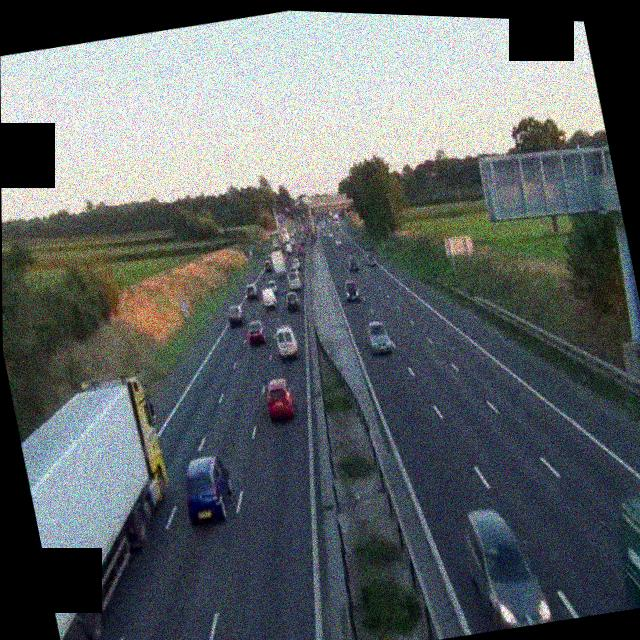car: (459, 500, 552, 635), (178, 453, 238, 525), (263, 377, 298, 423), (366, 318, 394, 356), (273, 326, 299, 361), (245, 318, 267, 346), (261, 284, 280, 311), (226, 303, 246, 327), (343, 279, 362, 303), (283, 289, 301, 312), (286, 272, 301, 293), (244, 282, 259, 301), (346, 255, 359, 274), (289, 259, 301, 275), (365, 253, 376, 268)
truck: (11, 367, 209, 640), (604, 478, 640, 611), (269, 249, 288, 278)
